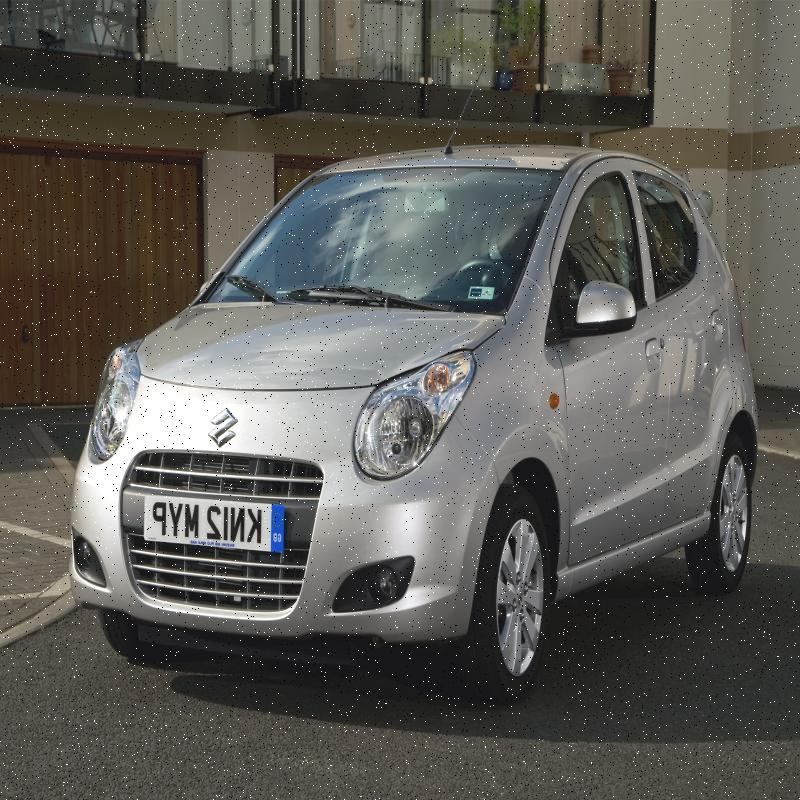car: (56, 136, 748, 701)
